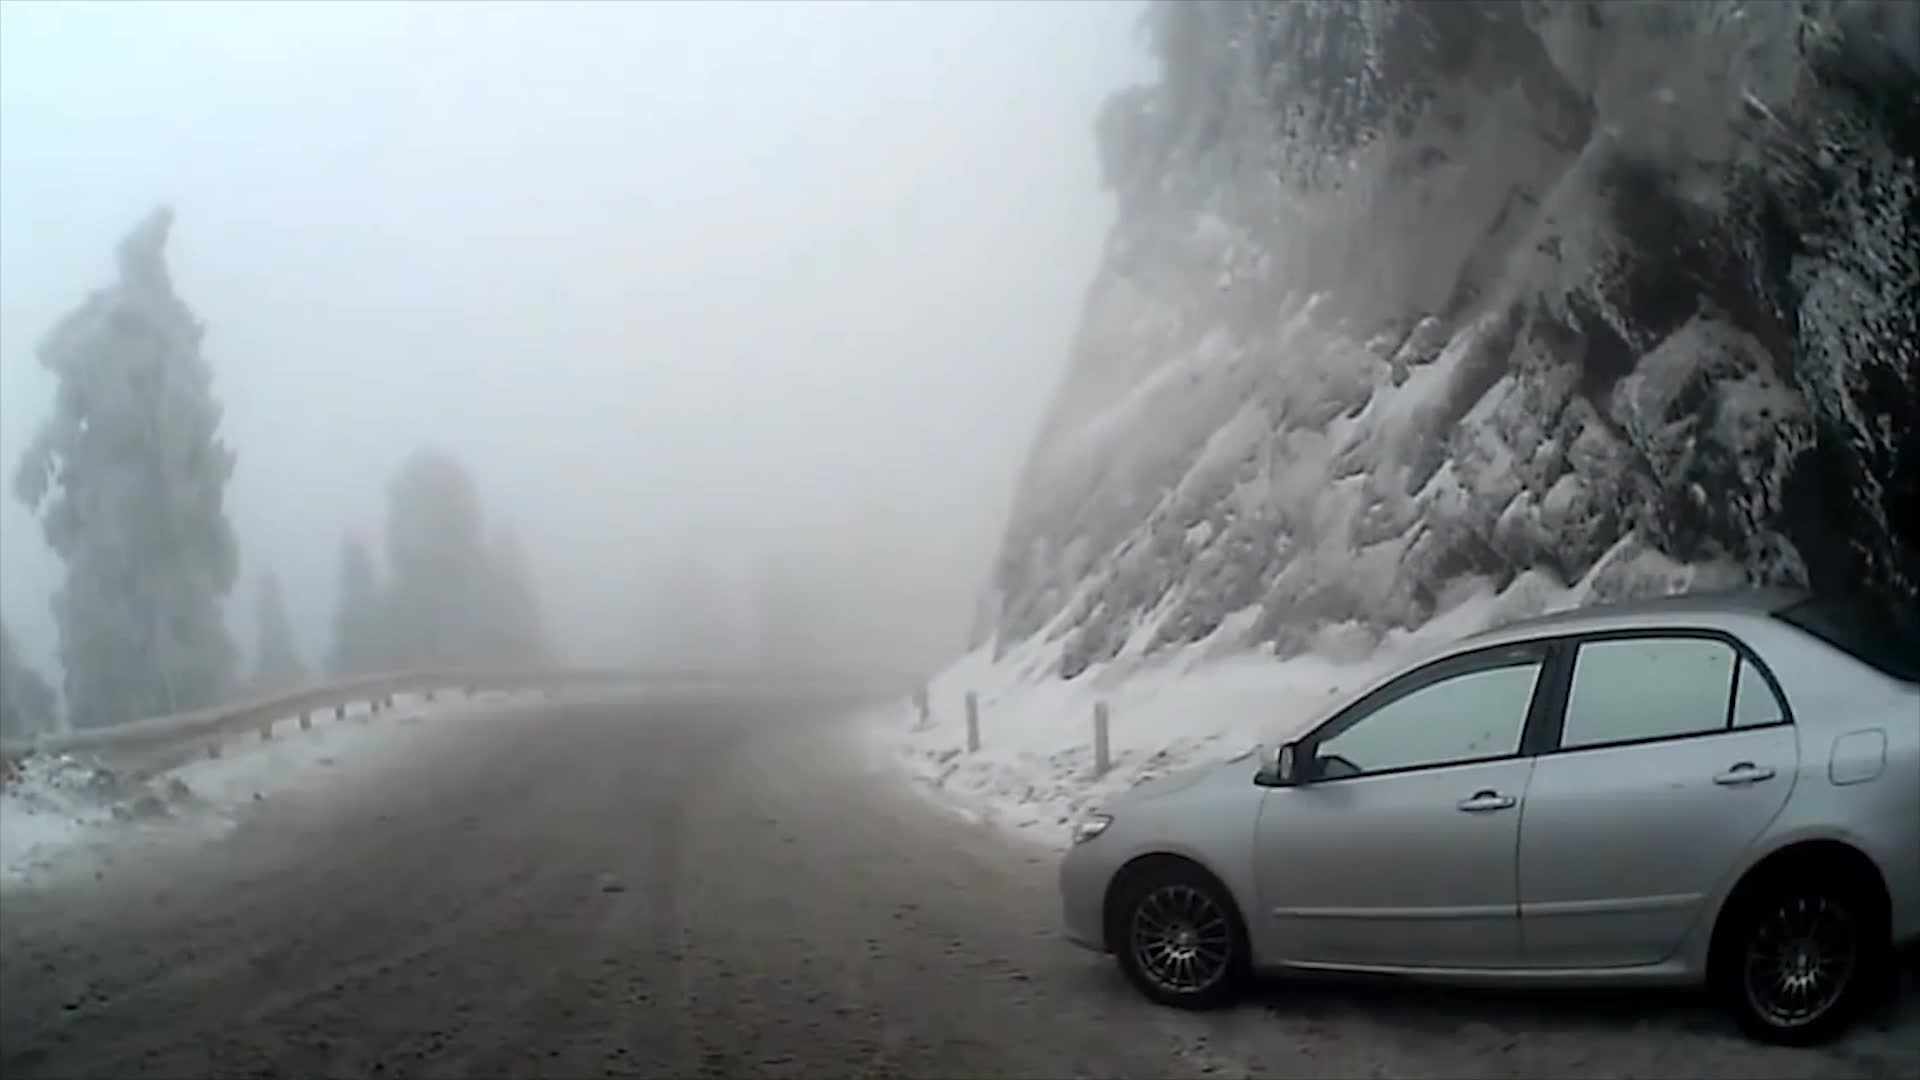vehicle: (1056, 583, 1920, 1048)
